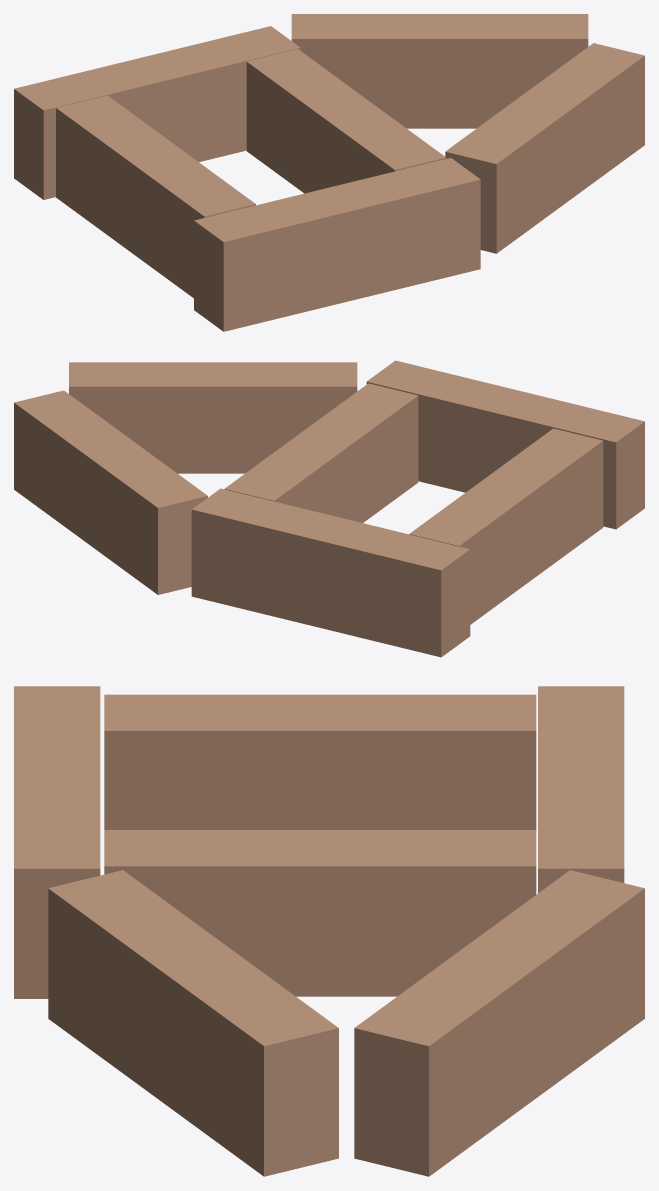
The model's file is 2d_house.dae.
3 views of the same model, one above another, from view 1: azimuth 30°, elevation 25°; view 2: azimuth 150°, elevation 25°; view 3: azimuth 270°, elevation 25° (orthographic). The views are drawn at different scales.
Parts seen in each view (by area): view 1: base (×6); view 2: base (×6); view 3: base (×6).
Part boxes in pixels (bbox=[...]): base (×6): bbox=[14, 14, 644, 331]; base (×6): bbox=[14, 360, 644, 657]; base (×6): bbox=[14, 686, 644, 1176].
Bounding box in the file's own units: 0.3007 × 0.2227 × 0.0508.
